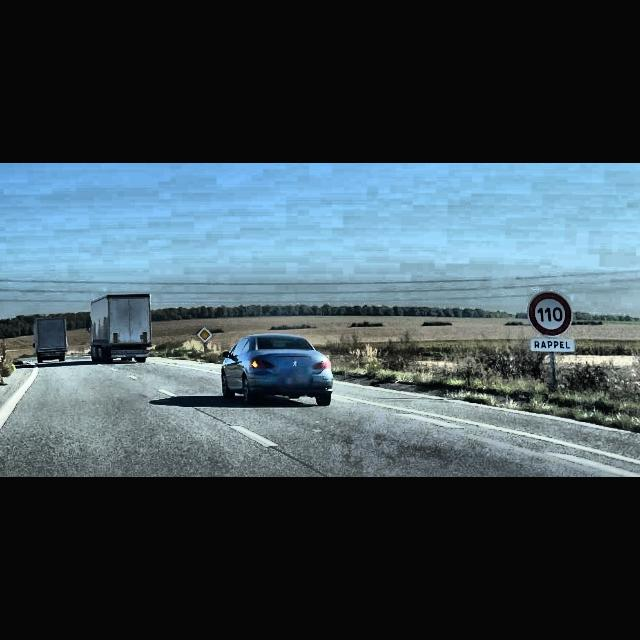speed_110: (527, 293, 573, 337)
